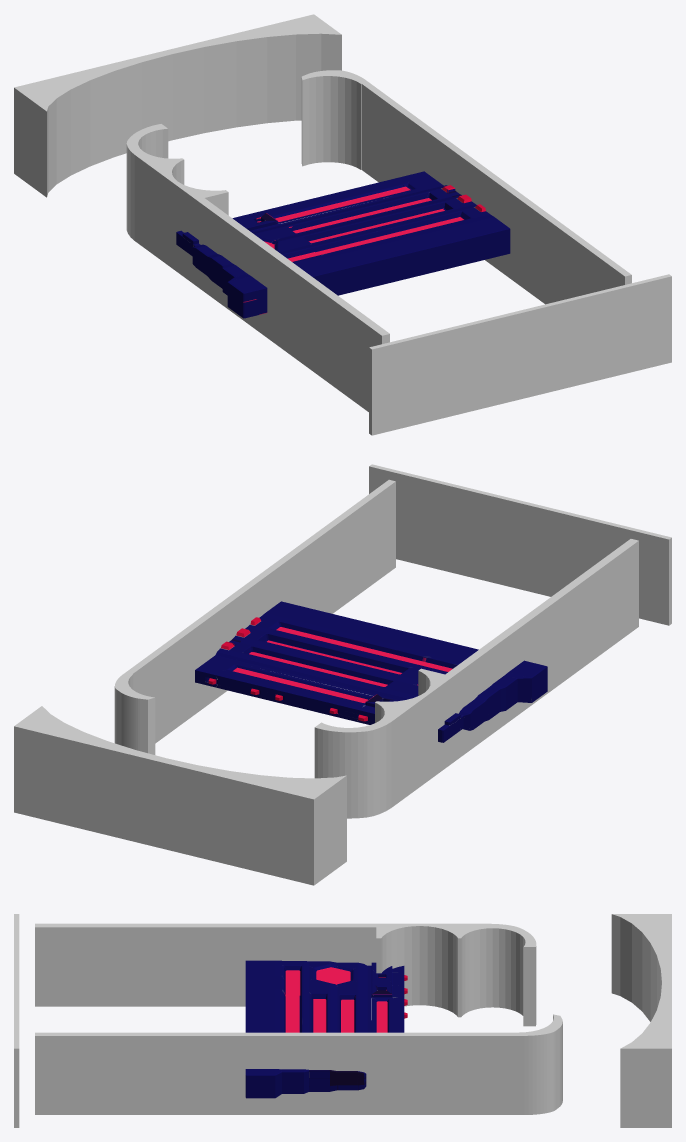
The model's file is PinballScorebord.fbx.
The picture shows the model from 3 angles, top to bottom: view 1: azimuth 30°, elevation 25°; view 2: azimuth 150°, elevation 25°; view 3: azimuth 270°, elevation 25°; orthographic projection. The views are drawn at different scales.
Visible parts, largest first — view 1: Cube.002, Cube.001; view 2: Cube.002, Cube.001; view 3: Cube.002, Cube.001.
Part boxes in pixels (<box>): Cube.002: <box>14,14,671,435</box>; Cube.001: <box>176,171,510,318</box>; Cube.002: <box>14,464,671,885</box>; Cube.001: <box>195,601,547,742</box>; Cube.002: <box>14,914,671,1127</box>; Cube.001: <box>245,960,404,1098</box>.
Bounding box in the file's own units: 126 × 34.32 × 258.
